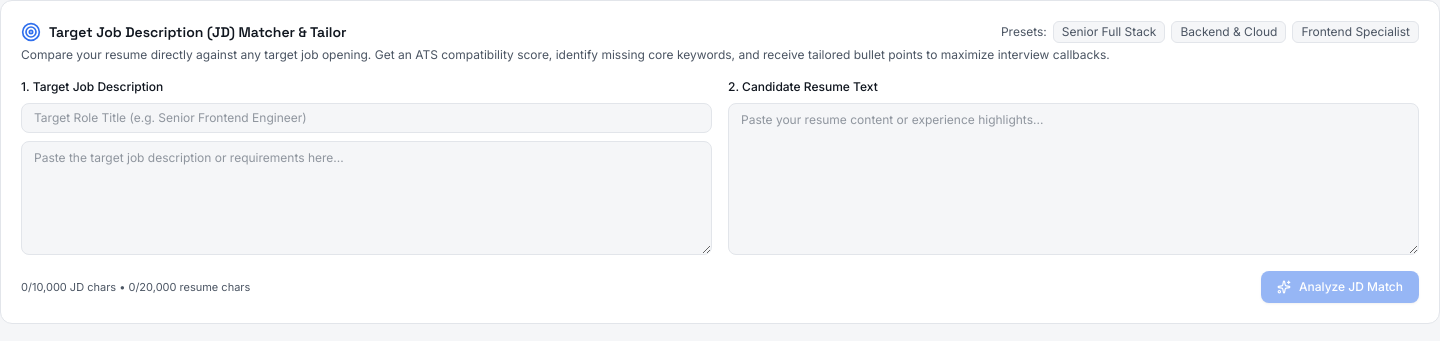
Test: JDMatcherSection › populates fields when a preset role button is clicked
What coordinates should you click on to do the following:
click the button "Senior Full Stack"
I would click on:
 (1109, 32)
Its box is [1053, 21, 1165, 43].
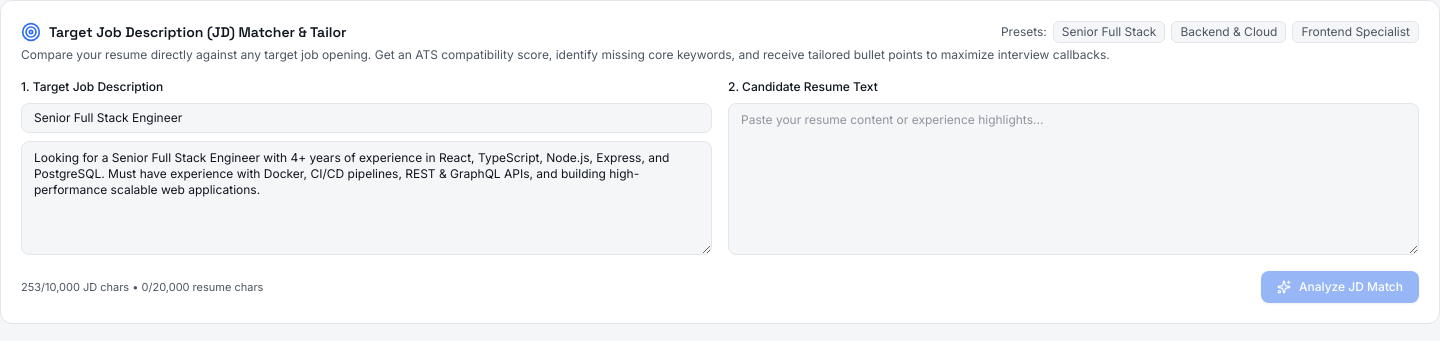
Now the field with placeholder "Target Role Title (e.g. Senior Frontend Engineer)" holds "Senior Full Stack Engineer", box [21, 103, 712, 133]
